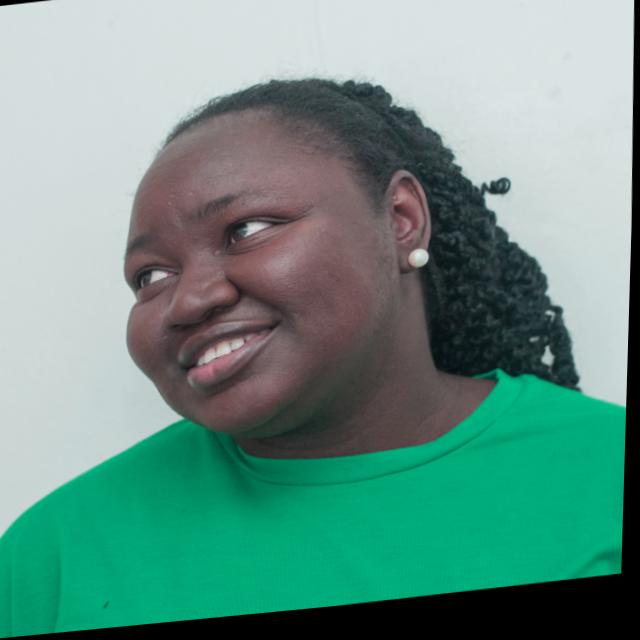happy: (114, 67, 445, 463)
